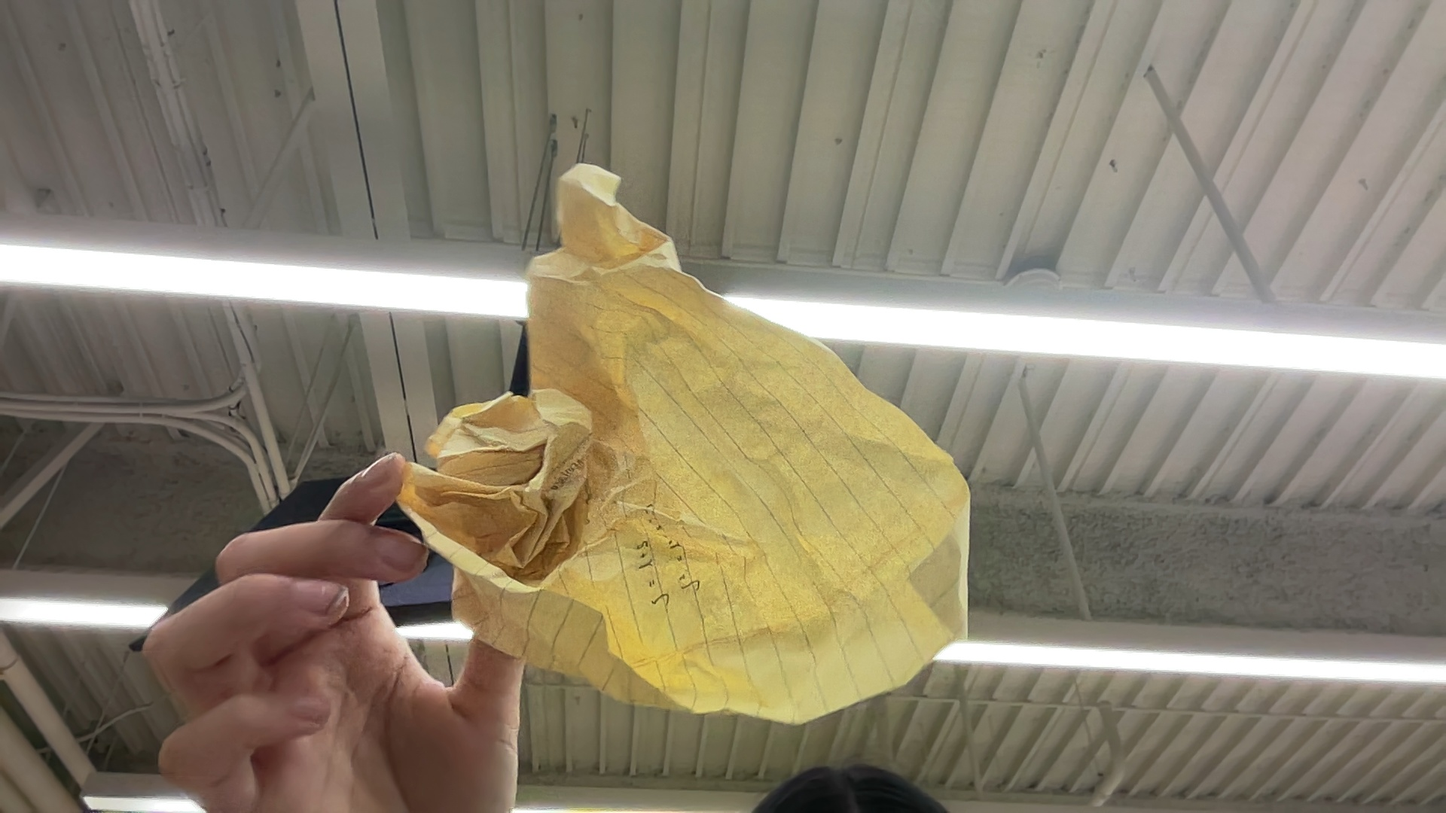Paper: (372, 389, 613, 582)
